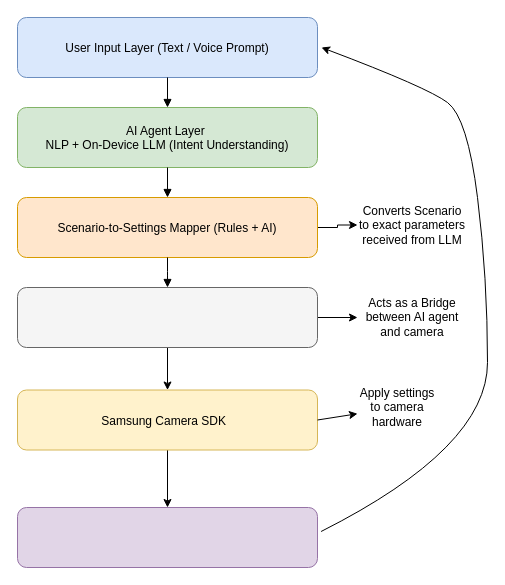
The diagram is 505 pixels wide and 585 high, and some of its shapes have lost their labels. Each missing label, with the box of its shape:
MCP Server / MiddleWare: (16, 286, 318, 348)
User Feedback UI (Apply / Revert + Explanation): (16, 506, 318, 568)
